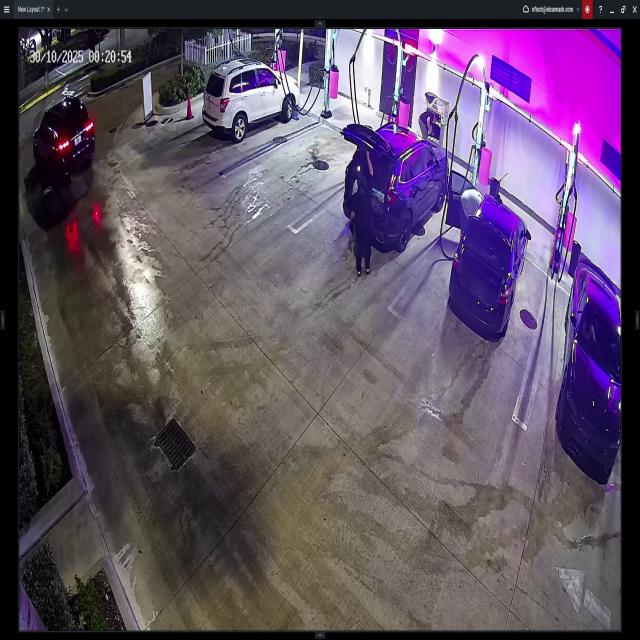Car: (342, 121, 448, 248), (559, 254, 620, 473), (451, 170, 528, 341), (204, 62, 298, 140), (35, 104, 94, 175)
